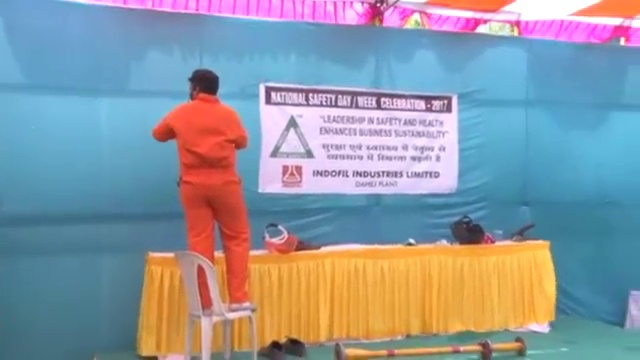helmet_off: (188, 69, 220, 100)
person: (150, 70, 259, 320)
